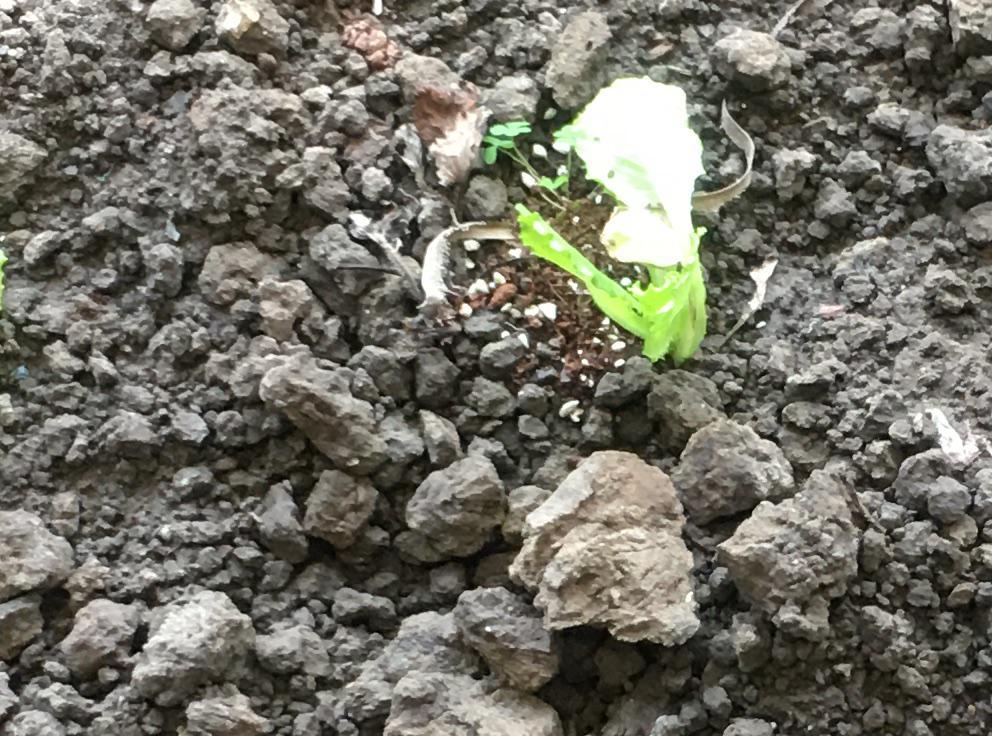block: (512, 447, 697, 649), (717, 476, 864, 643), (128, 593, 270, 707), (671, 419, 795, 528), (388, 665, 560, 736)
